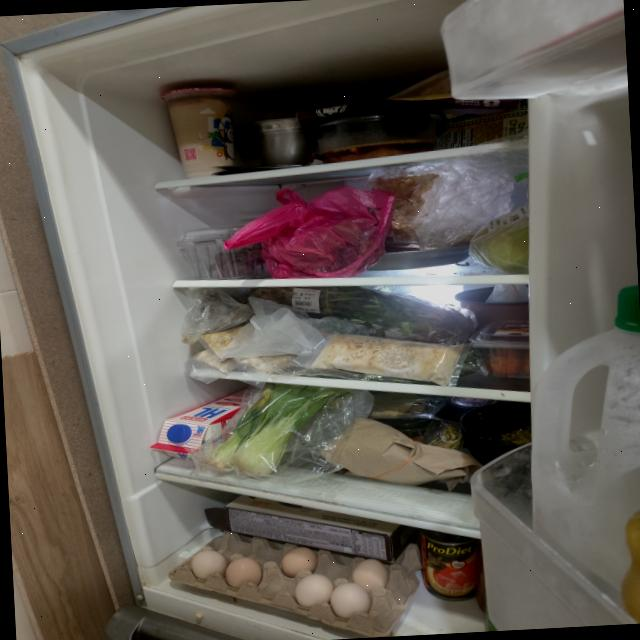egg: (166, 520, 426, 640)
grape: (208, 242, 266, 280)
leafy_greens: (248, 276, 474, 356)
pakchoy: (206, 378, 360, 479)
tempeh: (307, 326, 465, 394), (192, 326, 247, 376)
unknown_bag: (220, 182, 400, 284)
